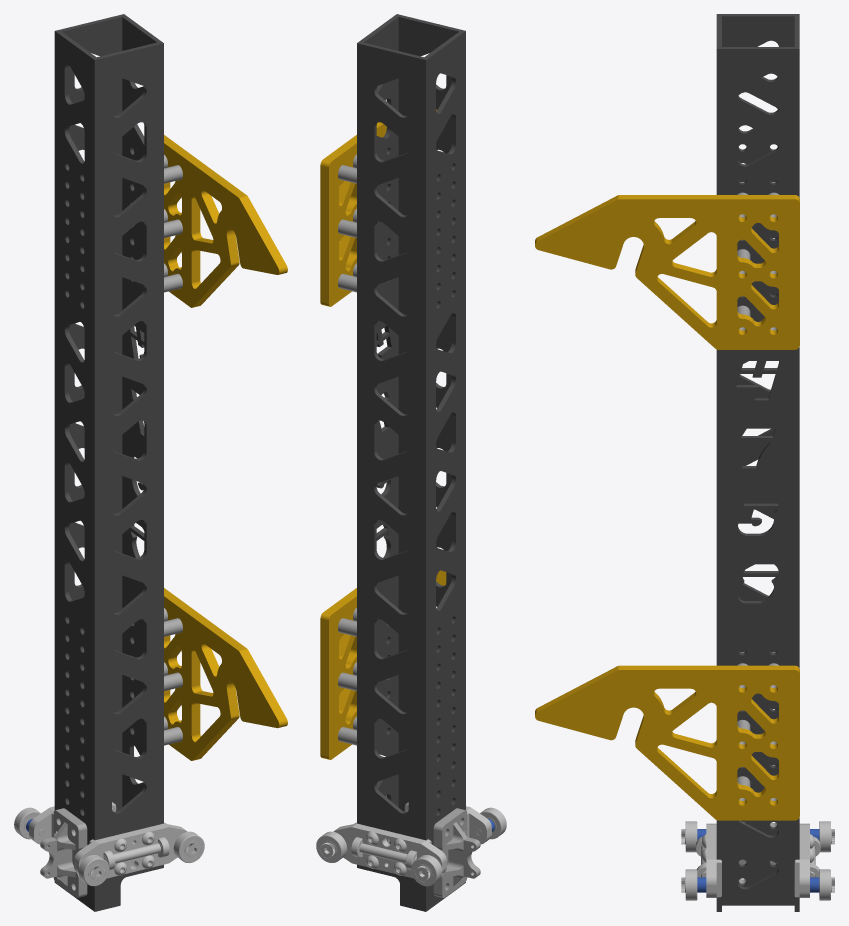
The picture shows the model from 3 angles, left to right: view 1: azimuth 30°, elevation 25°; view 2: azimuth 150°, elevation 25°; view 3: azimuth 270°, elevation 25°; orthographic projection. The views are drawn at different scales.
Parts seen in each view (by area): view 1: Climb Sliding Tube Right, Climb Hook (×2), Sliding Bearing Block Plate - SLIDE-001 (×2), Part 1, TTB-0038_75OD_25ID_28WD (×2); view 2: Climb Sliding Tube Right, Climb Hook (×2), Sliding Bearing Block Plate - SLIDE-001 (×2), Part 1, TTB-0038_75OD_25ID_28WD (×3), .25diameter_1.75inSteelDowel_SLIDE-002; view 3: Climb Sliding Tube Right, Climb Hook (×2), Sliding Bearing Block Plate - SLIDE-001 (×2).
Part boxes in pixels (x1,y1,x2,y2): Climb Sliding Tube Right: (54,14,163,911); Climb Hook (×2): (164,135,287,760); Sliding Bearing Block Plate - SLIDE-001 (×2): (29,806,187,878); Part 1: (40,808,87,897); TTB-0038_75OD_25ID_28WD (×2): (78,831,204,886); Climb Sliding Tube Right: (357,14,465,911); Climb Hook (×2): (320,109,446,759); Sliding Bearing Block Plate - SLIDE-001 (×2): (333,795,491,878); Part 1: (433,808,480,897); TTB-0038_75OD_25ID_28WD (×3): (316,807,506,886); .25diameter_1.75inSteelDowel_SLIDE-002: (359,843,416,863); Climb Sliding Tube Right: (716,14,799,911); Climb Hook (×2): (535,195,799,820); Sliding Bearing Block Plate - SLIDE-001 (×2): (706,823,809,897).
Size of the model in its own units: 0.1014 by 0.5969 by 0.1834.
